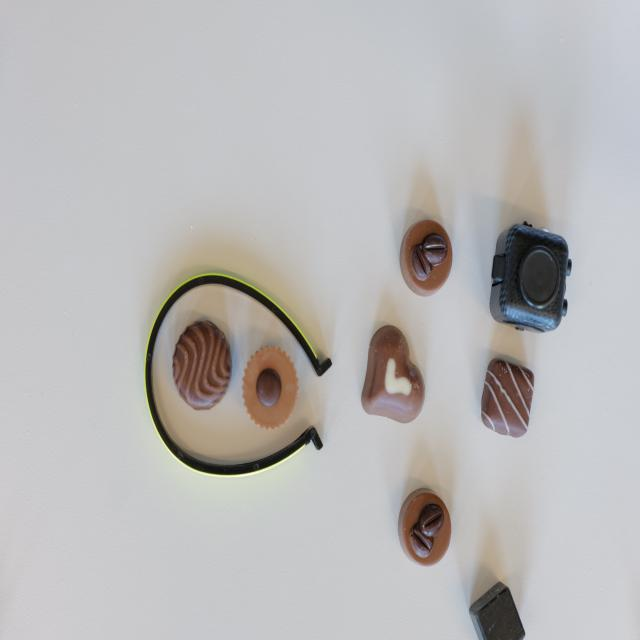Arabia: (398, 488, 451, 569), (400, 220, 453, 296)
Noblesse: (243, 347, 299, 429)
Noir_authentique: (172, 320, 232, 412)
Passion_au_lait: (360, 326, 426, 425)
Stracciatella: (482, 357, 533, 438)
